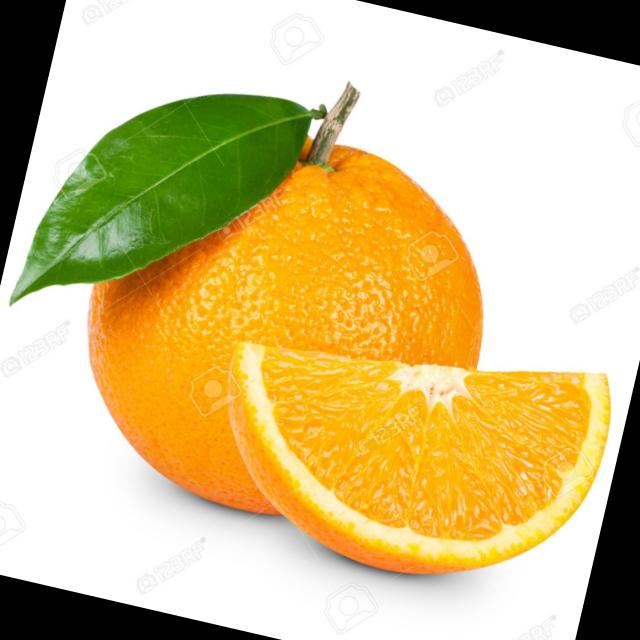orange: (33, 94, 528, 588)
